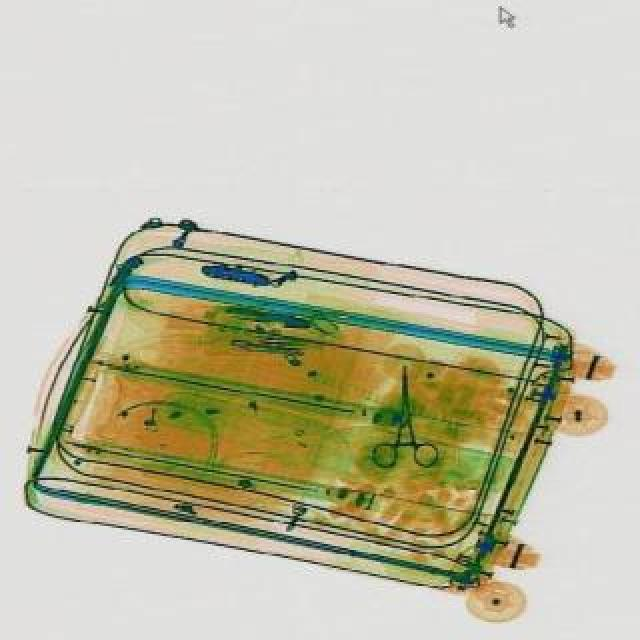pliers: (370, 364, 438, 468)
